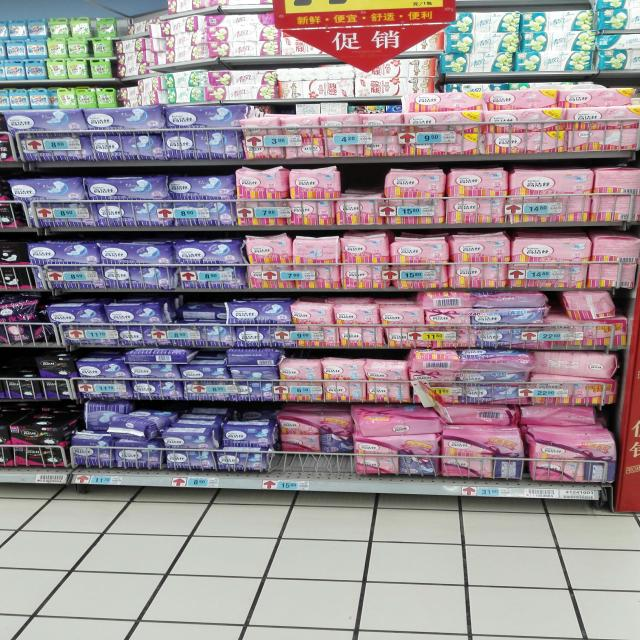unorganised: (277, 415, 353, 463), (594, 163, 640, 223), (591, 236, 640, 287), (353, 412, 442, 437), (517, 404, 594, 429), (439, 405, 518, 429), (561, 291, 618, 320), (110, 411, 159, 442), (172, 299, 229, 325), (80, 404, 126, 427)
